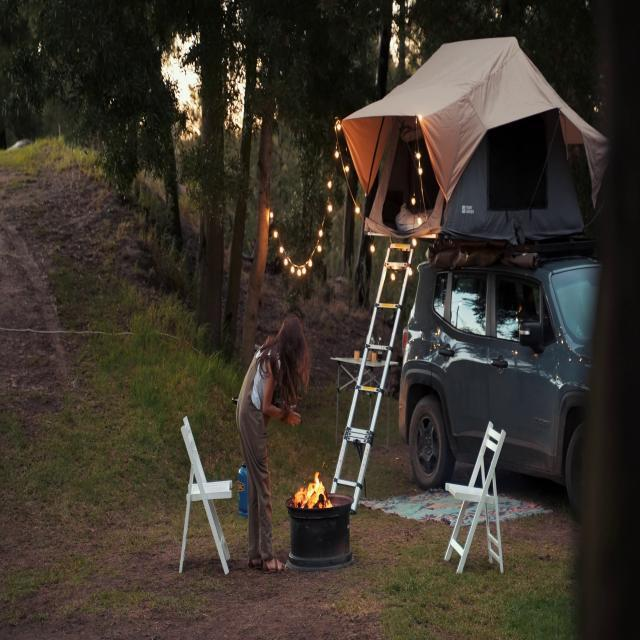Fire: (295, 463, 330, 512)
